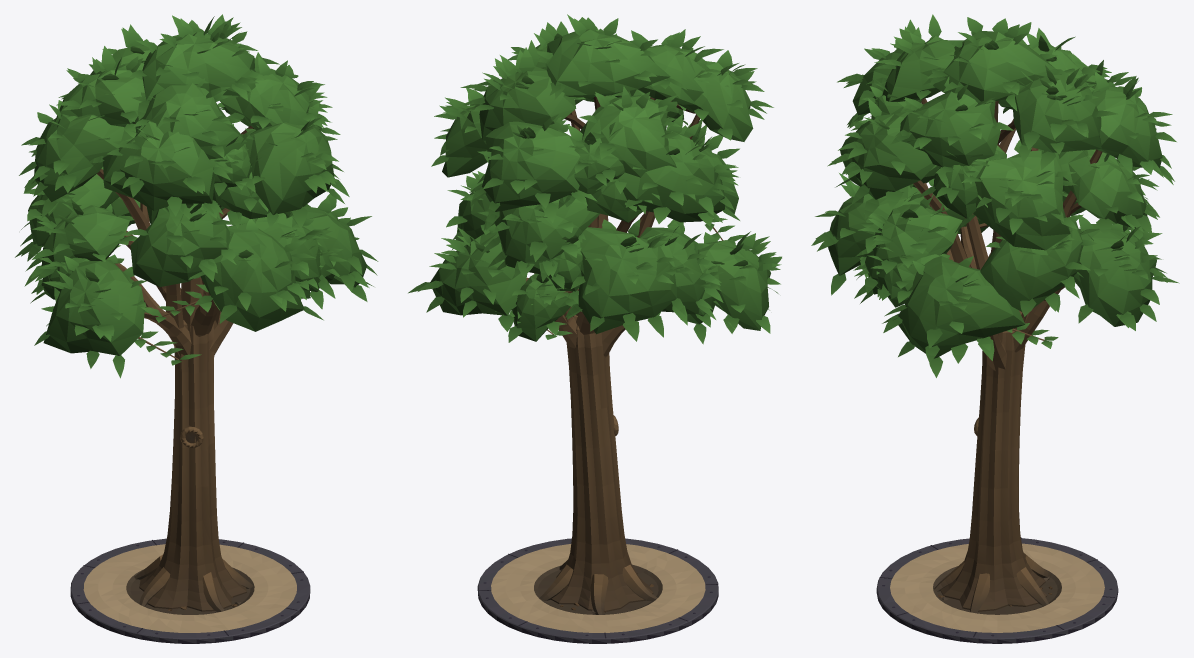
Rendered from tree_shade_park.glb.
The picture shows the model from 3 angles, left to right: view 1: azimuth 30°, elevation 25°; view 2: azimuth 150°, elevation 25°; view 3: azimuth 270°, elevation 25°; orthographic projection.
Parts seen in each view (by area): view 1: shade_tree_park_01; view 2: shade_tree_park_01; view 3: shade_tree_park_01.
Part boxes in pixels (x1,y1,x2,y2): shade_tree_park_01: (15, 14, 378, 643); shade_tree_park_01: (408, 14, 781, 643); shade_tree_park_01: (811, 14, 1179, 643).
Size of the model in its own units: 3.07 by 5.21 by 3.05.
